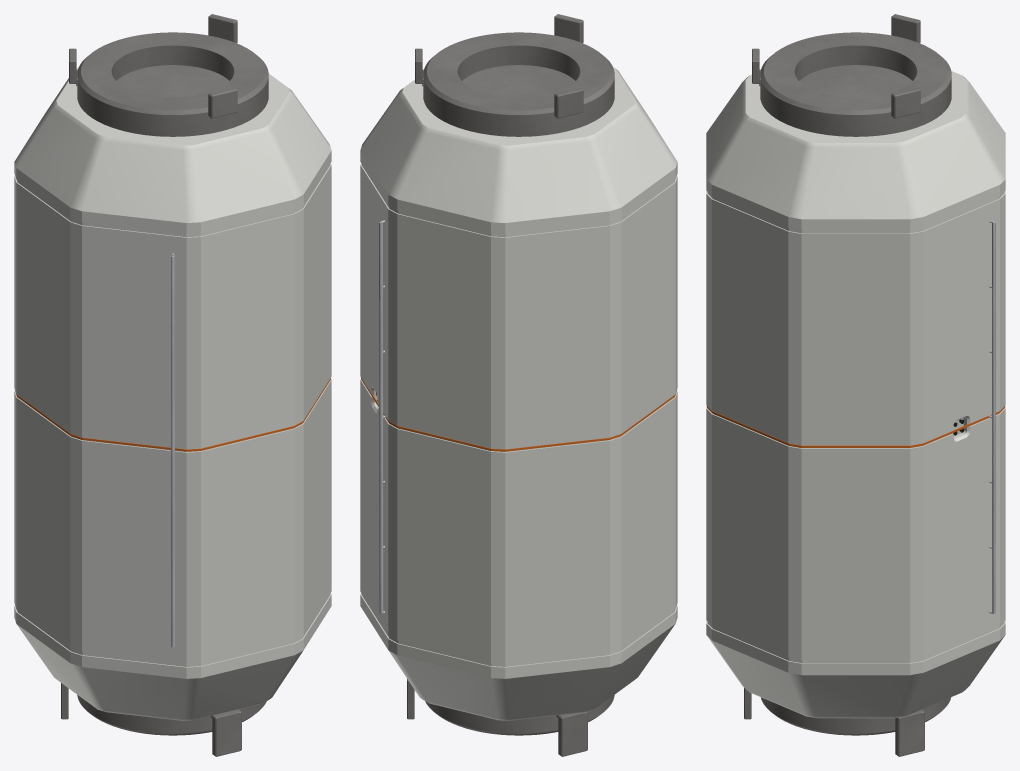
File: ax_station_14_storm_shelter.glb
3 renders of one model, left to right at view 1: azimuth 30°, elevation 25°; view 2: azimuth 150°, elevation 25°; view 3: azimuth 270°, elevation 25°, orthographic.
Parts seen in each view (by area): view 1: pressure_hull, port_top, hatch_door_2, port_bottom, port_top_petals, handrails, port_bottom_petals, orange_stripes; view 2: pressure_hull, port_top, hatch_door_2, port_bottom, handrails, port_top_petals, port_bottom_petals, orange_stripes; view 3: pressure_hull, port_top, hatch_door_2, port_bottom, port_top_petals, handrails, port_bottom_petals, orange_stripes.
Part boxes in pixels (box(x1,y1,x2,y2)): pressure_hull: box(14, 67, 331, 720); port_top: box(77, 32, 268, 136); hatch_door_2: box(116, 65, 229, 97); port_bottom: box(77, 695, 266, 735); port_top_petals: box(69, 14, 237, 118); handrails: box(171, 253, 174, 647); port_bottom_petals: box(61, 683, 241, 756); orange_stripes: box(15, 378, 330, 451); pressure_hull: box(360, 67, 677, 720); port_top: box(423, 32, 614, 136); hatch_door_2: box(462, 65, 575, 97); port_bottom: box(425, 695, 614, 735); handrails: box(379, 220, 385, 614); port_top_petals: box(415, 14, 583, 118); port_bottom_petals: box(407, 679, 587, 756); orange_stripes: box(361, 378, 676, 451); pressure_hull: box(706, 71, 1005, 718); port_top: box(760, 32, 951, 136); hatch_door_2: box(799, 65, 912, 97); port_bottom: box(761, 697, 950, 735); port_top_petals: box(752, 14, 920, 118); handrails: box(989, 220, 995, 614); port_bottom_petals: box(744, 688, 924, 756); orange_stripes: box(707, 406, 1004, 447).
Size of the model in its own units: 2.5 by 6.07 by 2.5.
Materials: 5 (2 with a texture image).
